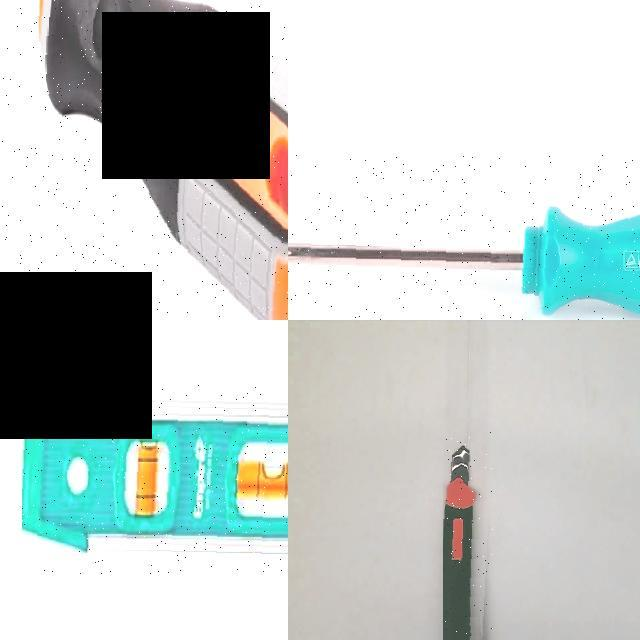estilete: (443, 445, 476, 639)
